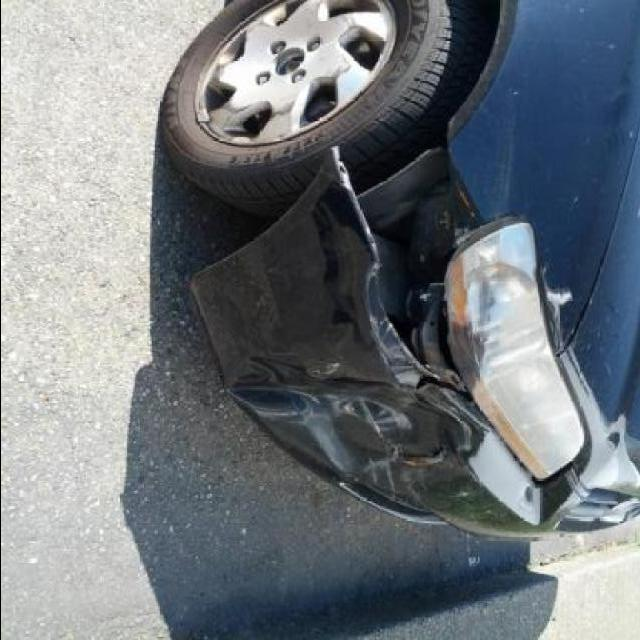Front-Windscreen-Damage: (208, 169, 467, 403), (271, 356, 490, 488)
front-bumper-dent: (351, 393, 470, 473)
